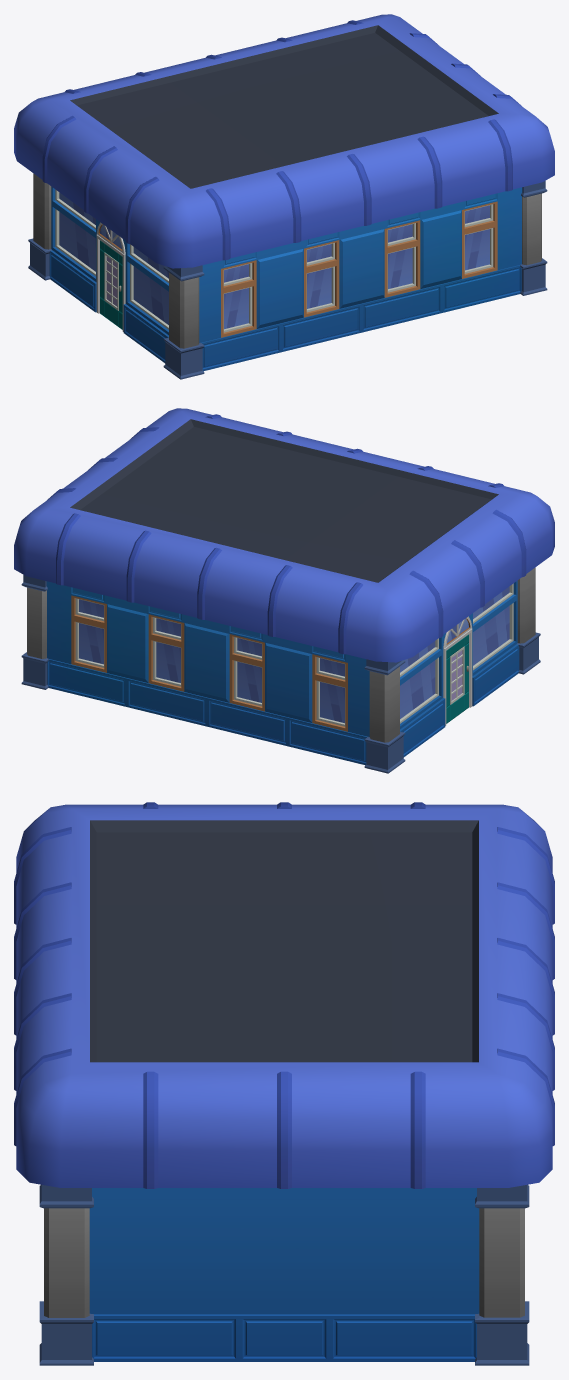
The model's file is Building_12_A.fbx.
The picture shows the model from 3 angles, top to bottom: view 1: azimuth 30°, elevation 25°; view 2: azimuth 150°, elevation 25°; view 3: azimuth 270°, elevation 25°; orthographic projection. The views are drawn at different scales.
Visible parts, largest first — view 1: Building_12_A; view 2: Building_12_A; view 3: Building_12_A.
Part boxes in pixels (x1=…): Building_12_A: x1=14, y1=14, x2=554, y2=379; Building_12_A: x1=14, y1=408, x2=554, y2=773; Building_12_A: x1=14, y1=802, x2=554, y2=1365.
Bounding box in the file's own units: 1053 × 440 × 770.
